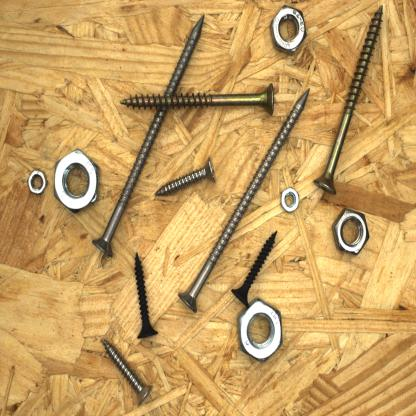screw: (176, 84, 313, 315), (89, 10, 208, 261), (311, 3, 386, 198), (117, 80, 281, 121), (98, 334, 155, 410), (230, 227, 282, 309), (151, 152, 223, 198), (132, 248, 163, 345)
